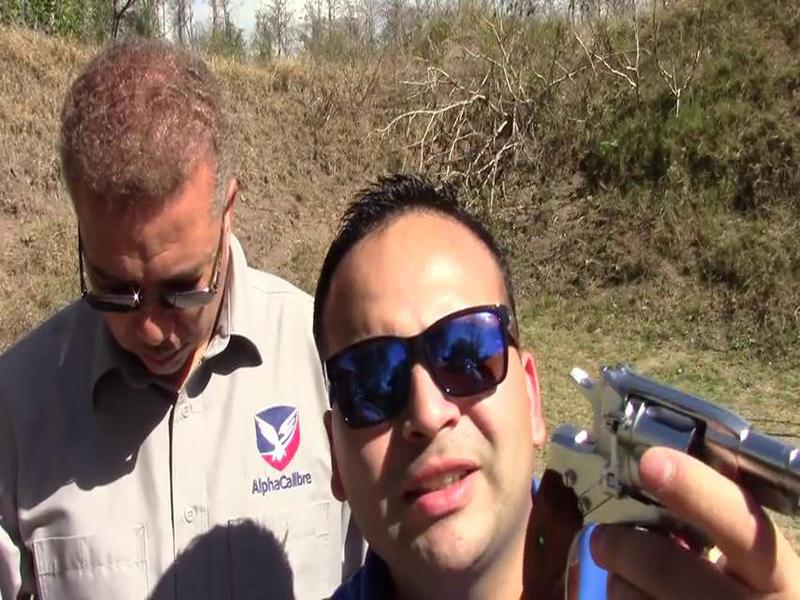Revolver: (506, 327, 800, 568)
